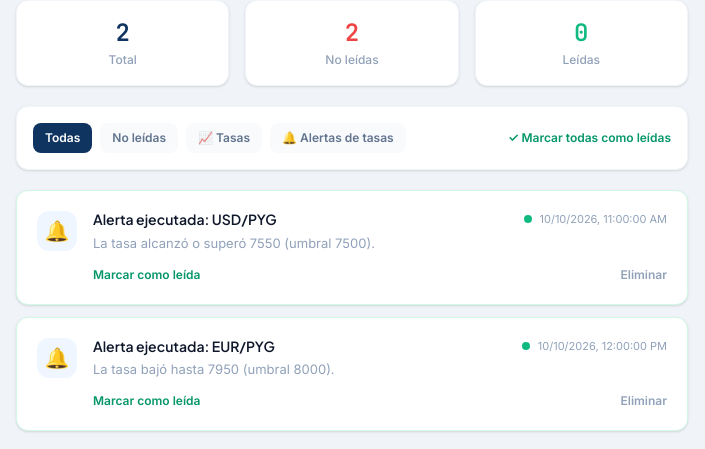
Scenario: Notifications (disparos reales) › marca todas como leídas y vacía el contador
Expected: the text "Alerta ejecutada: USD/PYG" is shown, [93, 211, 277, 228]
Step 1. Click the button "✓ Marcar todas como leídas" → (589,138), box [508, 129, 671, 147]
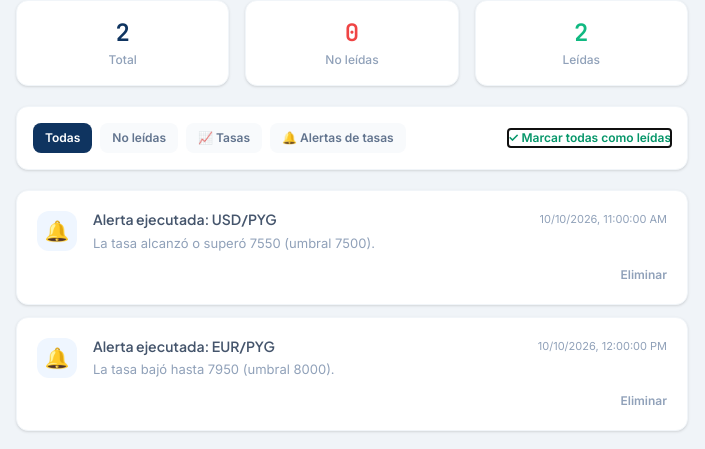
Expected: no buttons "Marcar como leída" are shown
